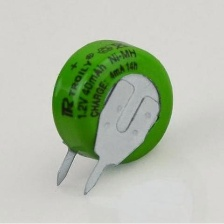battery: (45, 35, 177, 199)
